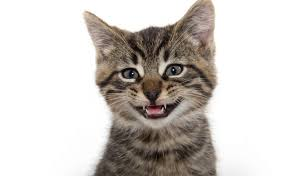Gato: (78, 4, 224, 176)
